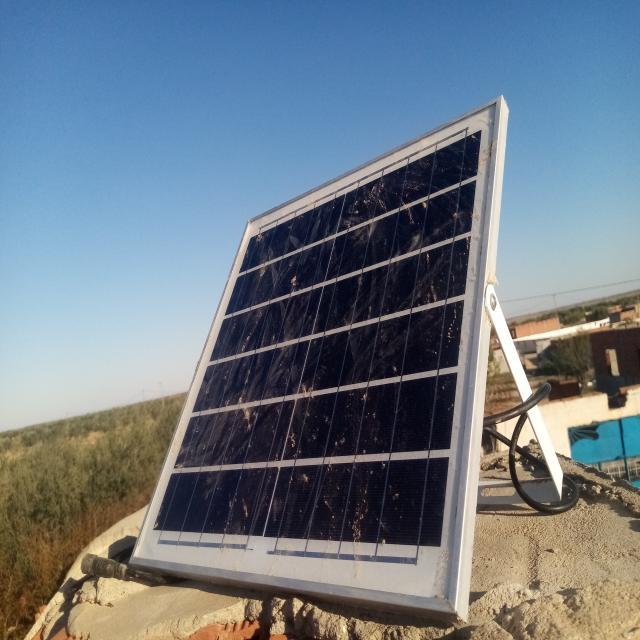faulty: (132, 101, 498, 611)
